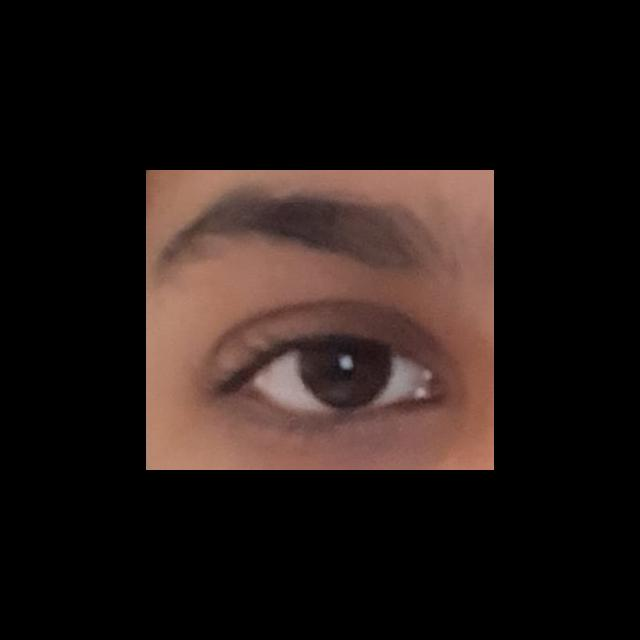eye: (252, 342, 431, 417)
iris: (299, 345, 392, 410)
